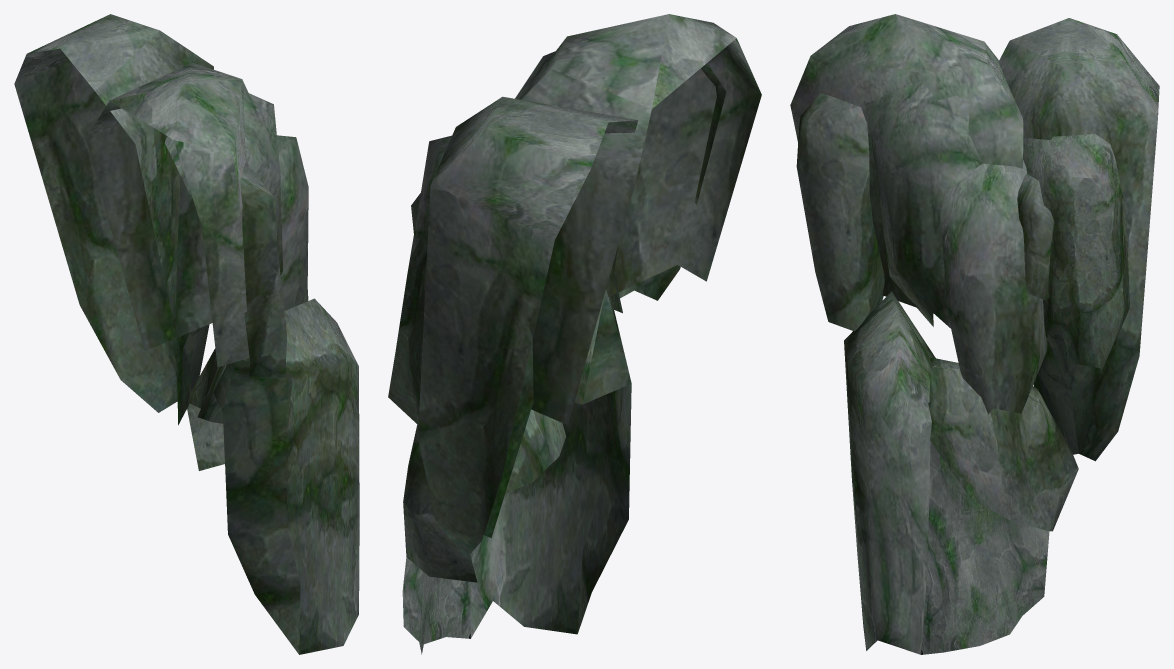
File: SC001Jshanshi_19.FBX
3 renders of one model, left to right at view 1: azimuth 30°, elevation 25°; view 2: azimuth 150°, elevation 25°; view 3: azimuth 270°, elevation 25°, orthographic. The views are drawn at different scales.
Visible parts, largest first — view 1: SC001Jshanshi_19; view 2: SC001Jshanshi_19; view 3: SC001Jshanshi_19.
Boxes of the visible parts, x1,y1,x2,y2 form: SC001Jshanshi_19: (14, 14, 359, 654); SC001Jshanshi_19: (388, 14, 761, 654); SC001Jshanshi_19: (790, 14, 1159, 654).
Bounding box in the file's own units: 5.53 × 13.98 × 8.22.
